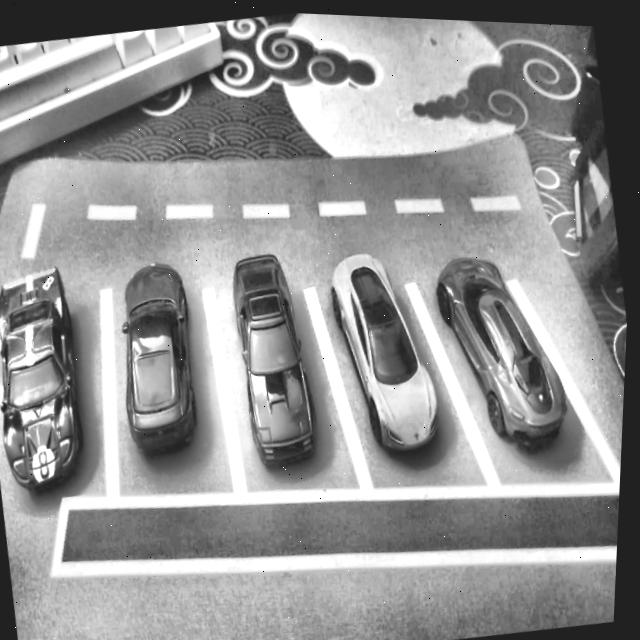car: (428, 236, 583, 454), (323, 239, 456, 459), (224, 244, 334, 470), (0, 261, 102, 495), (107, 255, 215, 459)
